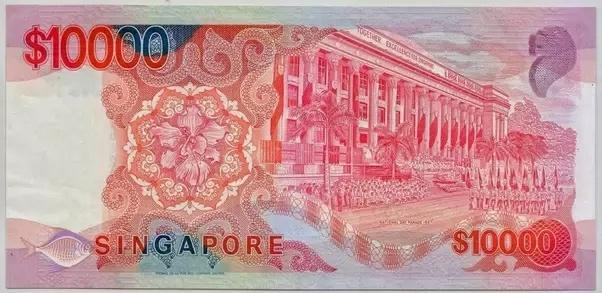10000SingaporeDollar: (7, 6, 595, 289)
